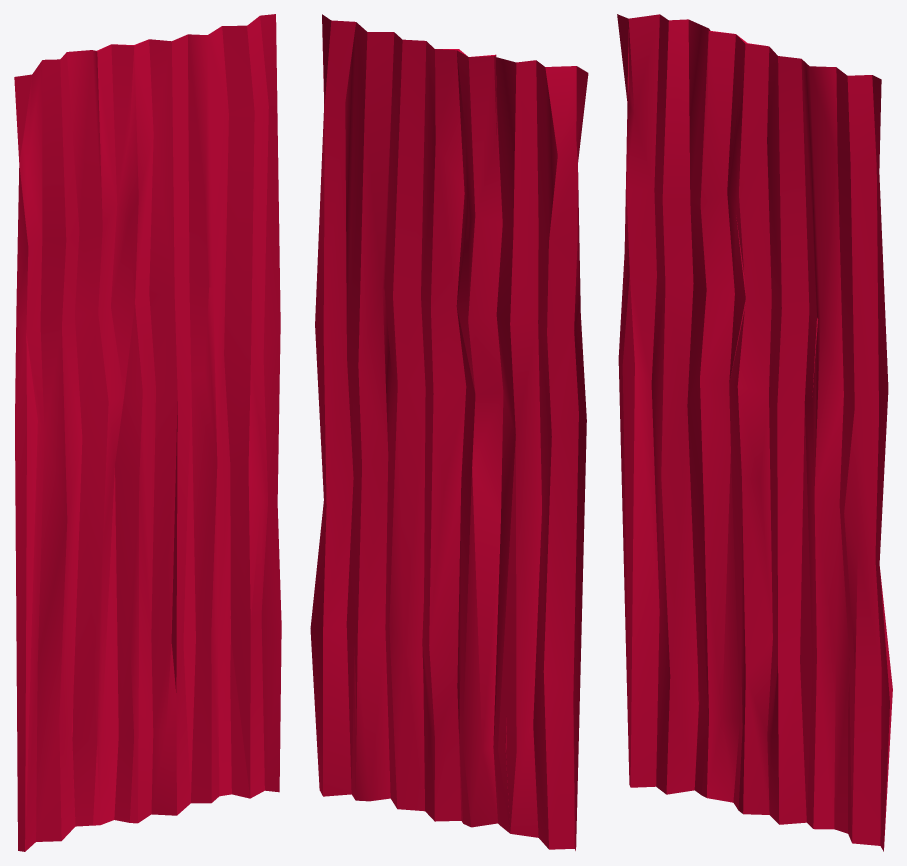
File: panel7-lod1.fbx
3 renders of one model, left to right at view 1: azimuth 30°, elevation 25°; view 2: azimuth 150°, elevation 25°; view 3: azimuth 330°, elevation 25°, orthographic.
Parts seen in each view (by area): view 1: panel7-lod1; view 2: panel7-lod1; view 3: panel7-lod1.
Boxes of the visible parts, left/top/right/bottom form: panel7-lod1: left=14, top=14, right=281, bottom=851; panel7-lod1: left=310, top=14, right=588, bottom=850; panel7-lod1: left=617, top=14, right=892, bottom=851.
Bounding box in the file's own units: 0.5225 × 1.44 × 0.0603.
